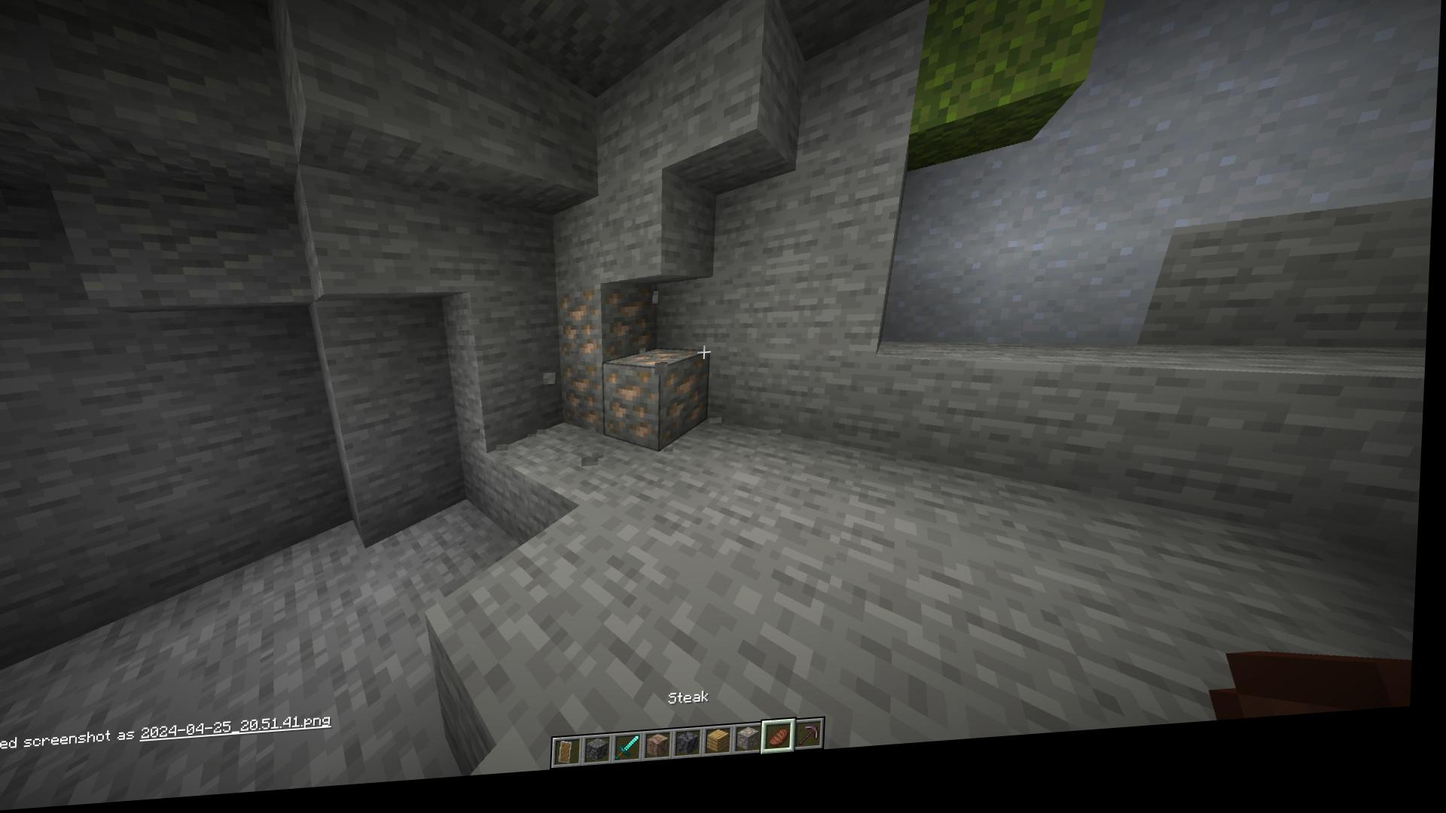iron ore: (604, 374, 665, 453), (663, 366, 717, 454), (605, 293, 661, 366), (558, 297, 605, 368), (558, 369, 604, 441), (613, 356, 708, 376)
